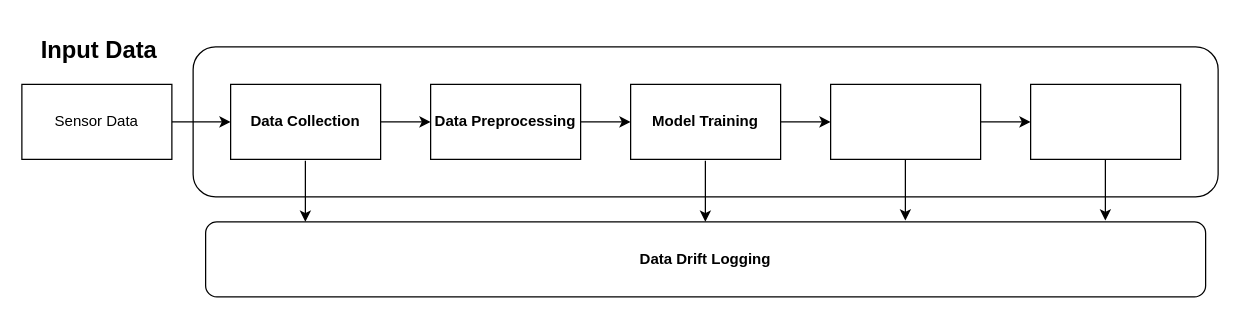
Some shapes in this 1240 by 319 pixel diagram are drawn without their labels. The shapes that lost their labels are listed below. From the top down, each one's centre as x and y in pixels, then its label:
At (905,121): "Model Testing".
At (1105,121): "Model Serving".
